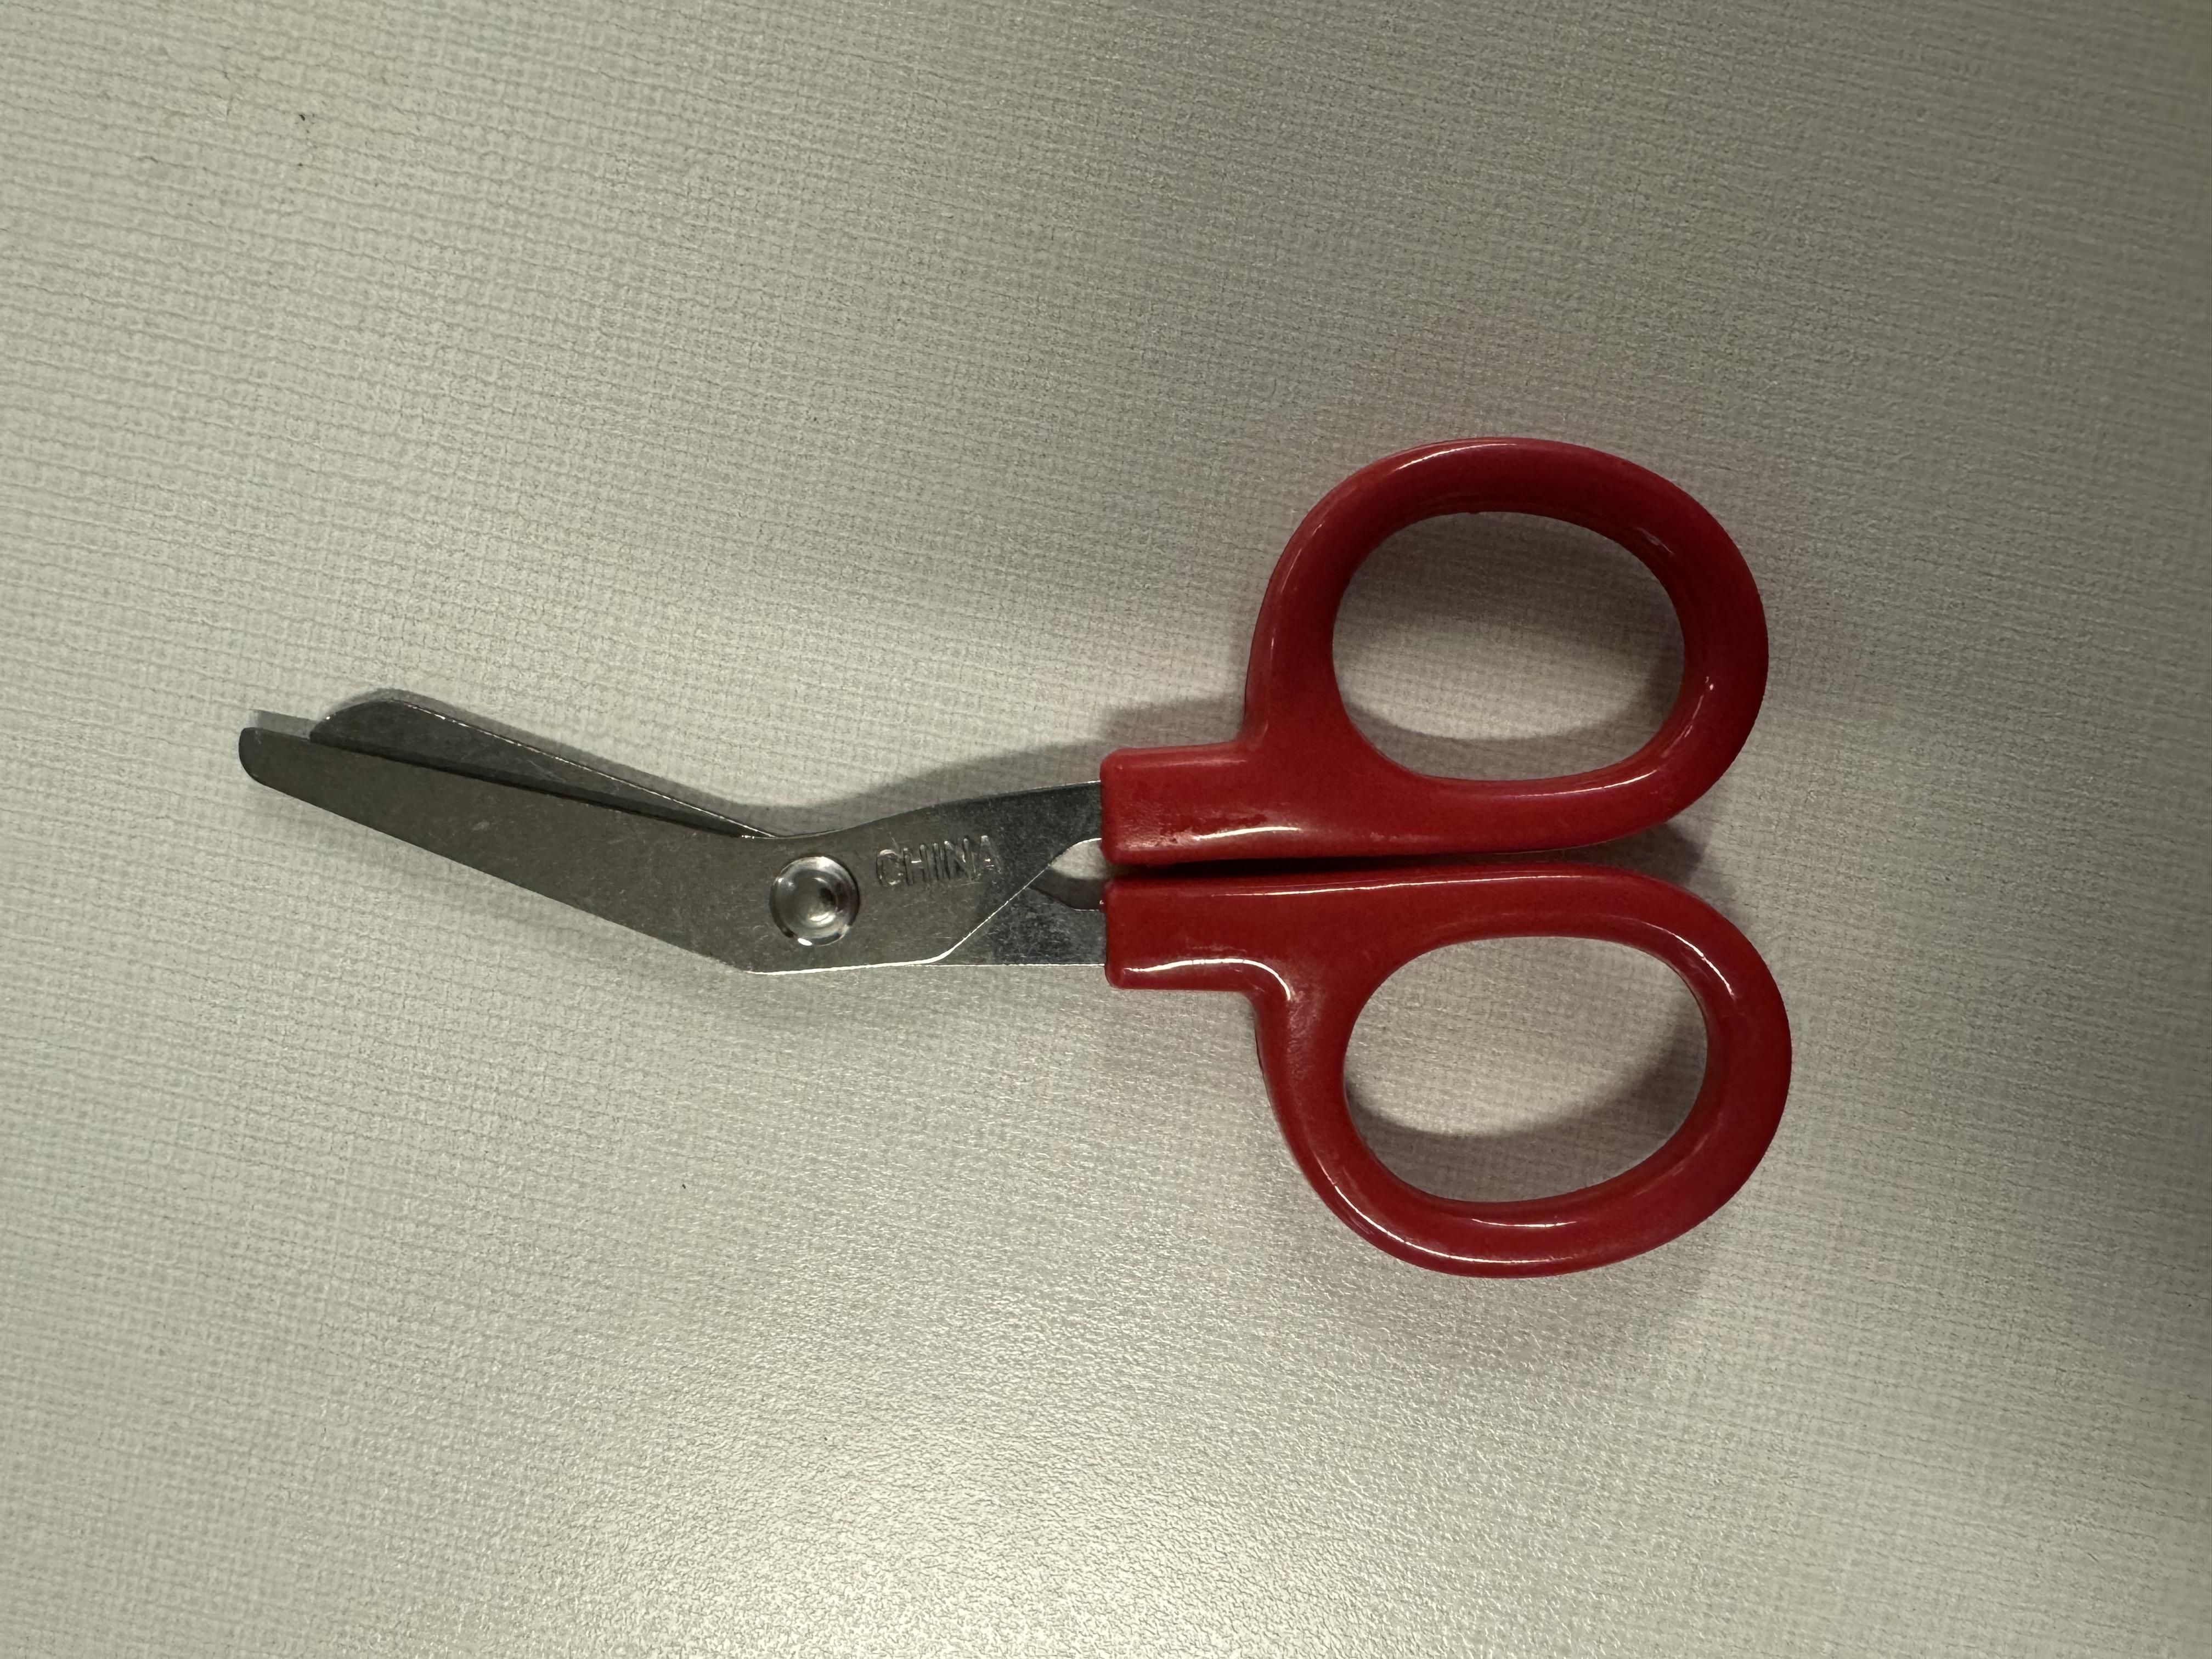scissors: (352, 129, 1806, 1452)
